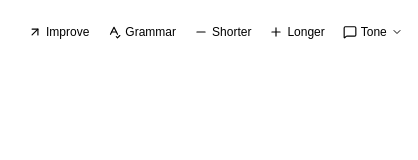
Test: AIWritingAssistant › shows suggestion with diff view after processing
Click the button with aria-label "fix grammar".
click(142, 32)  # box [99,19,184,45]
Wait 2000 ms
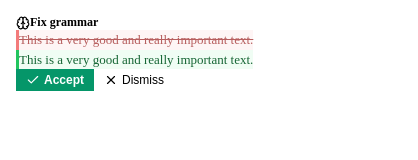
Now the text named "Original text" is shown, box [16,30,253,50]
Now the text named "Improved text" is shown, box [16,50,253,69]
Now the button with aria-label "accept suggestion" is shown, box [16,69,94,91]
